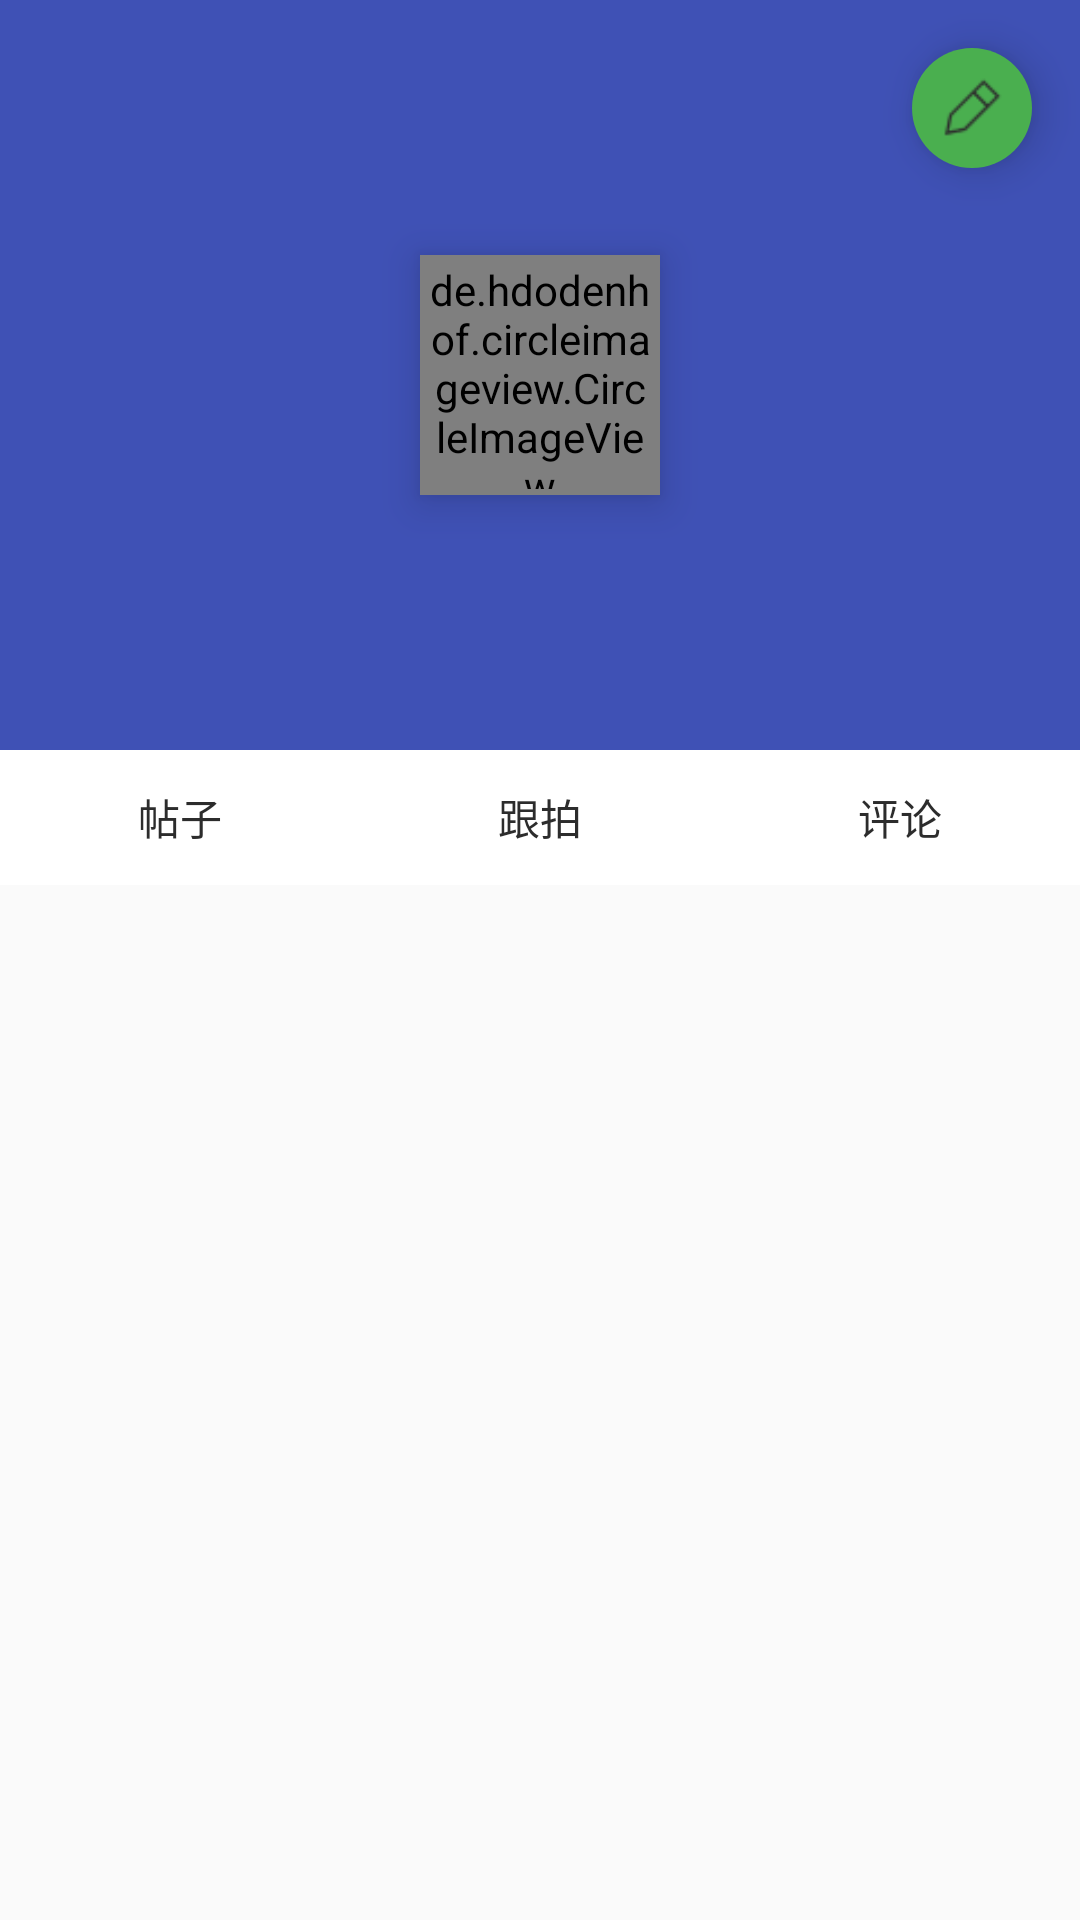

Point at icon controls on the screen. Image size 1080 x 1920, points as (x,y).
edit: (972,108)
